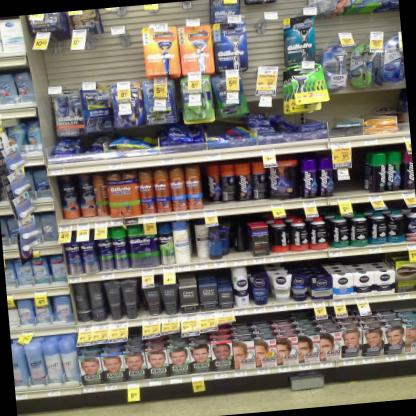empty_space: (330, 91, 365, 136), (333, 166, 369, 196)
